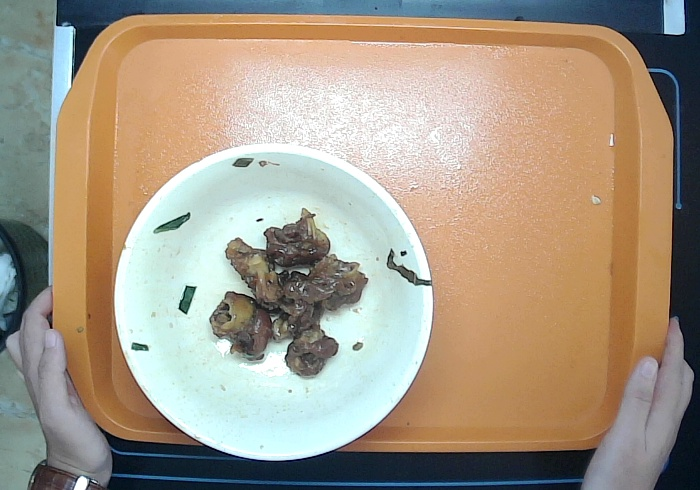ZNLD-Da_Tang_Wan: (111, 139, 435, 461)
